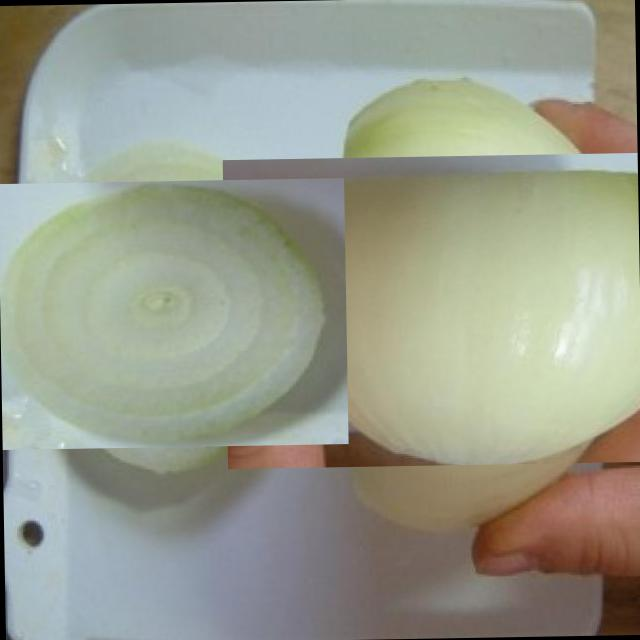Onion: (272, 100, 640, 518), (7, 154, 326, 474)
